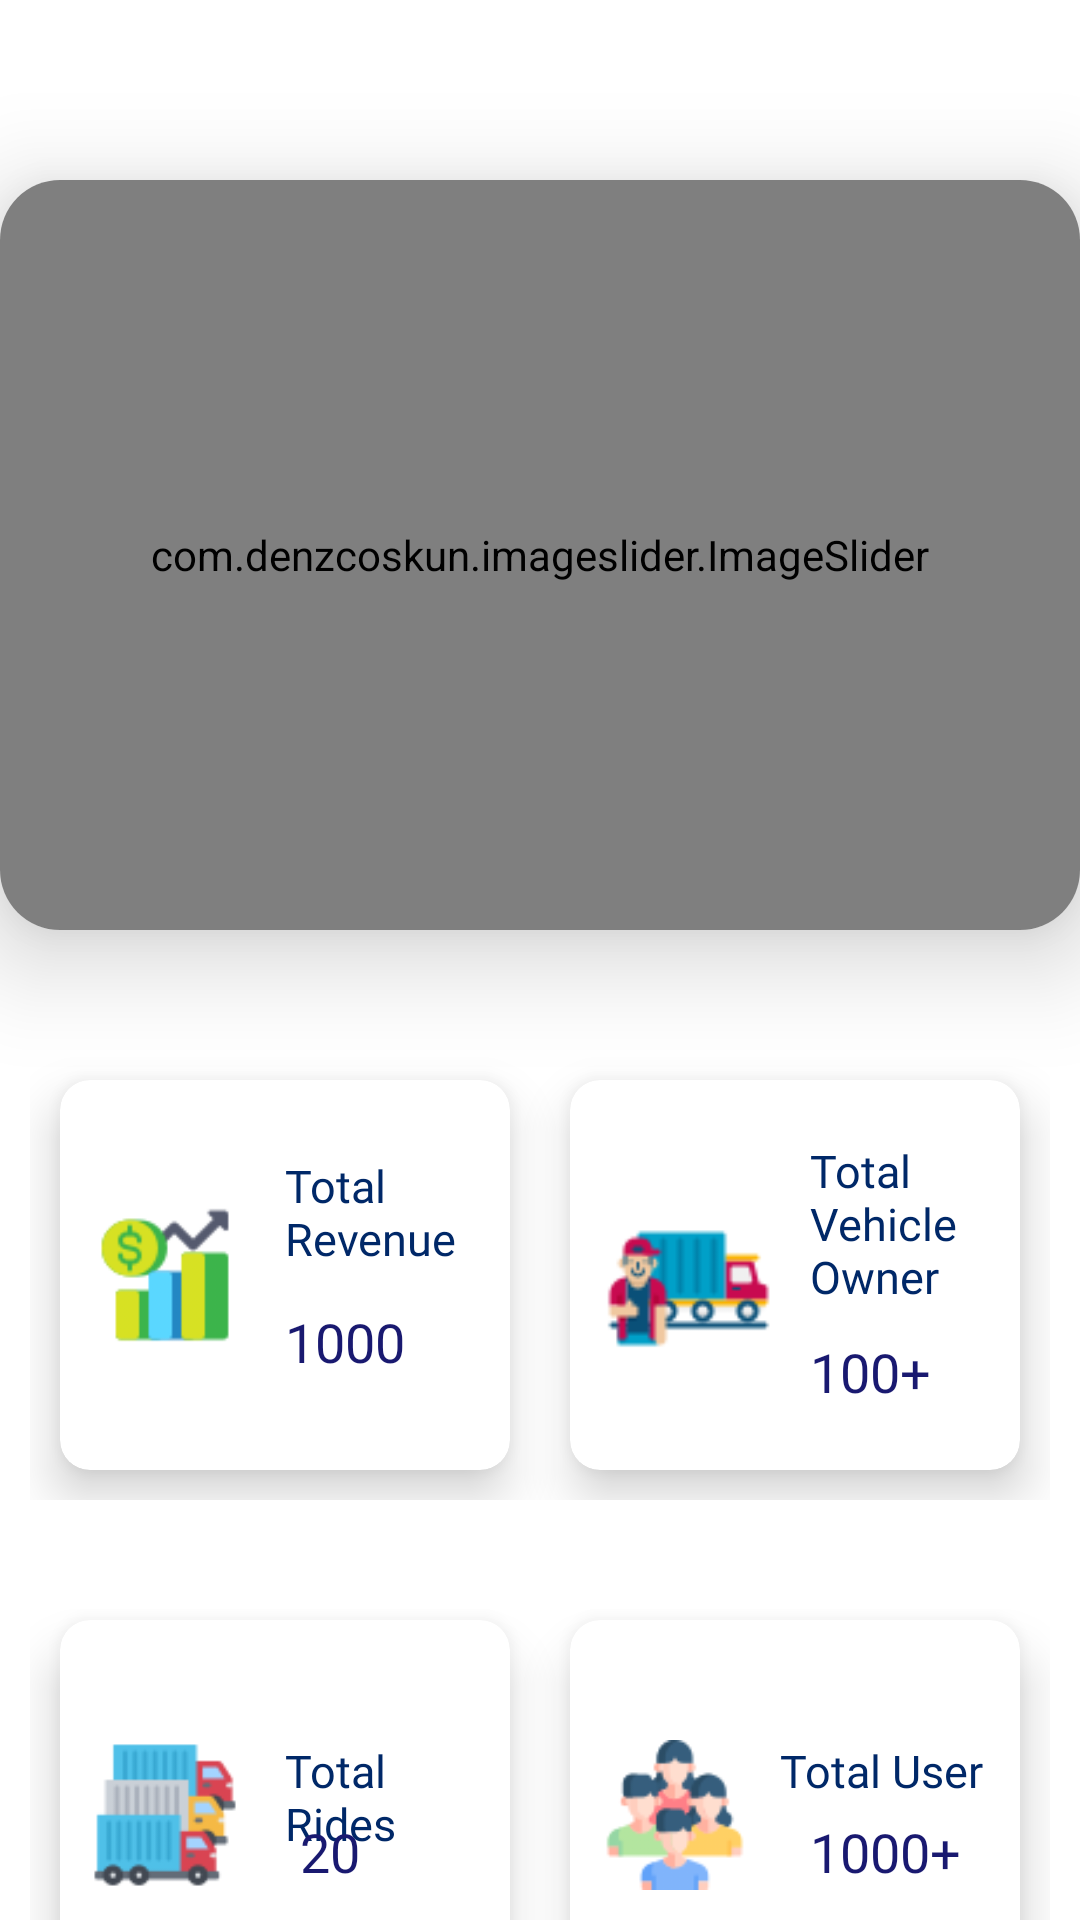

Icons on this 1080×1920 Android screen, each with its box as rect(x1, y1, x2, y2):
users: rect(607, 1740, 743, 1890)
